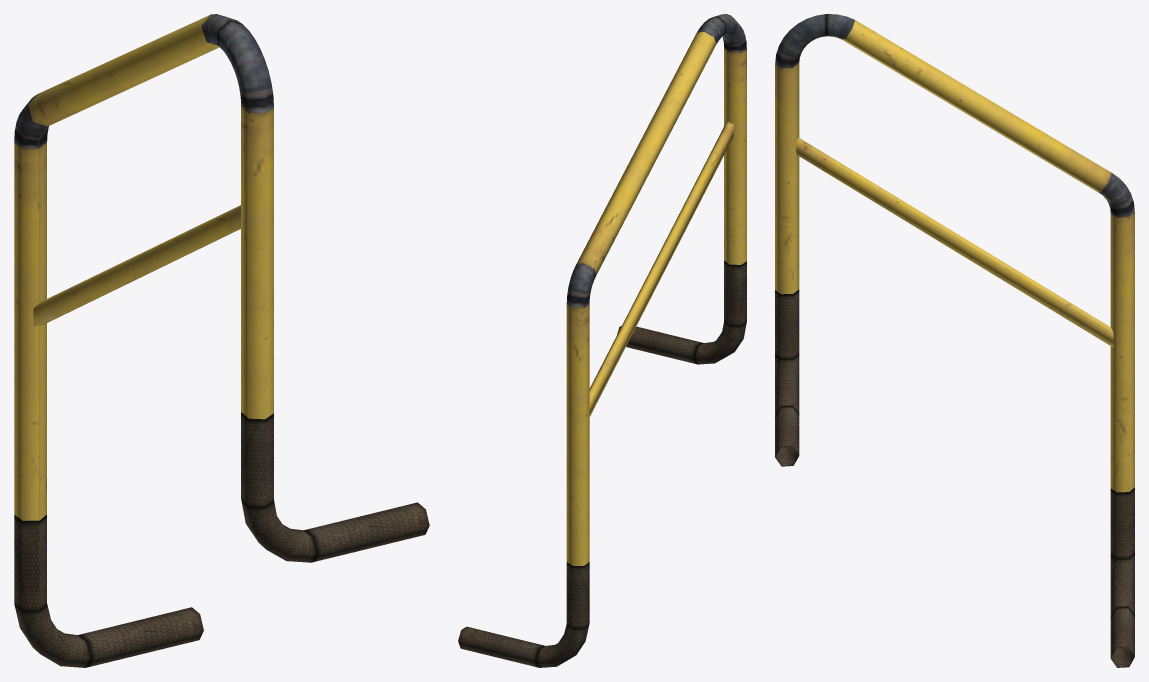
File: Railing_09.fbx
The picture shows the model from 3 angles, left to right: view 1: azimuth 30°, elevation 25°; view 2: azimuth 150°, elevation 25°; view 3: azimuth 270°, elevation 25°; orthographic projection. The views are drawn at different scales.
Visible parts, largest first — view 1: Railing_09; view 2: Railing_09; view 3: Railing_09.
Boxes of the visible parts, x1,y1,x2,y2 form: Railing_09: (14,14,429,667); Railing_09: (458,14,746,667); Railing_09: (775,14,1134,667).
Bounding box in the file's own units: 38.02 × 164 × 90.12.
1 material, 1 textured.
